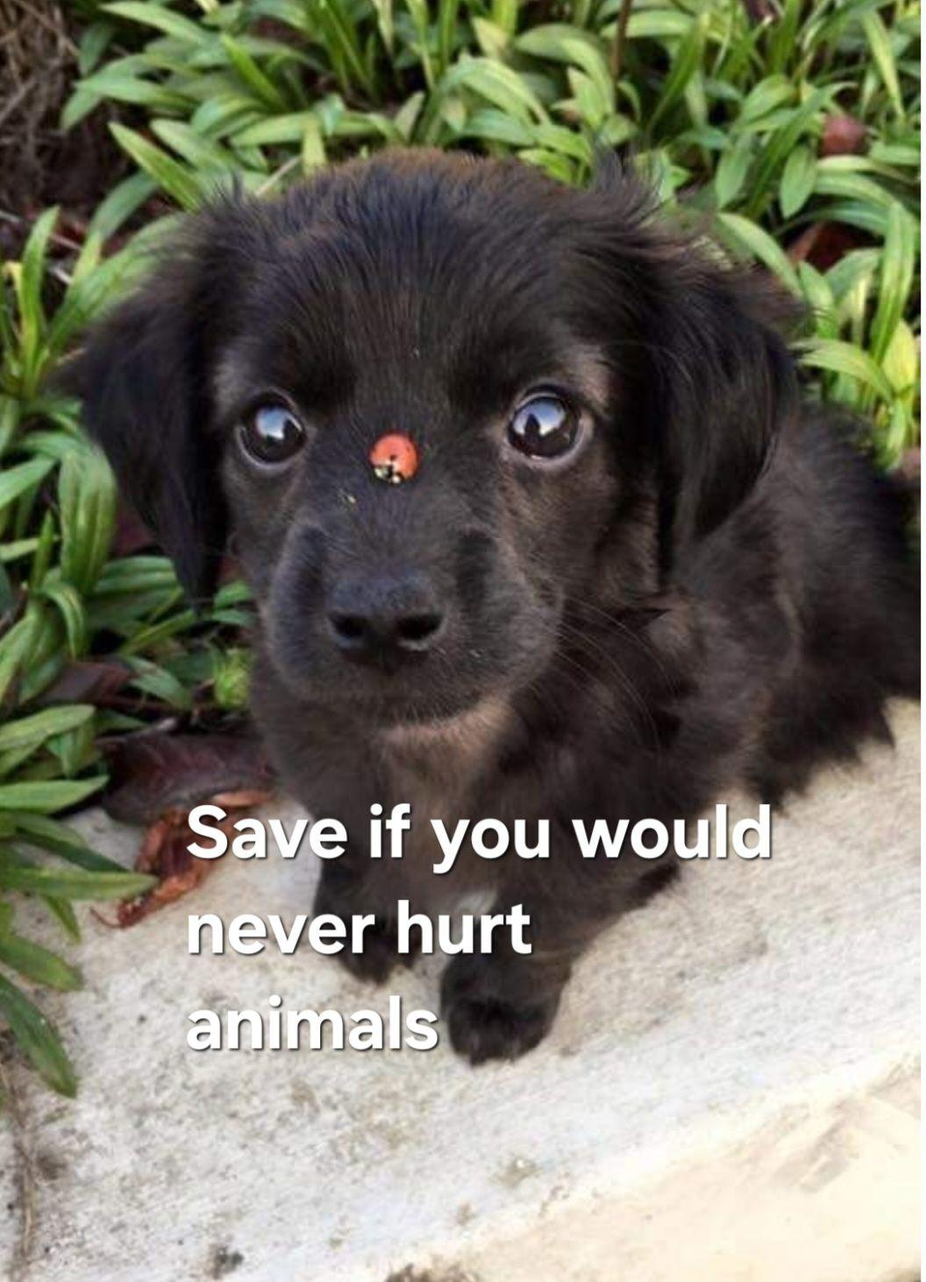puppy-dog: (61, 148, 926, 1065)
